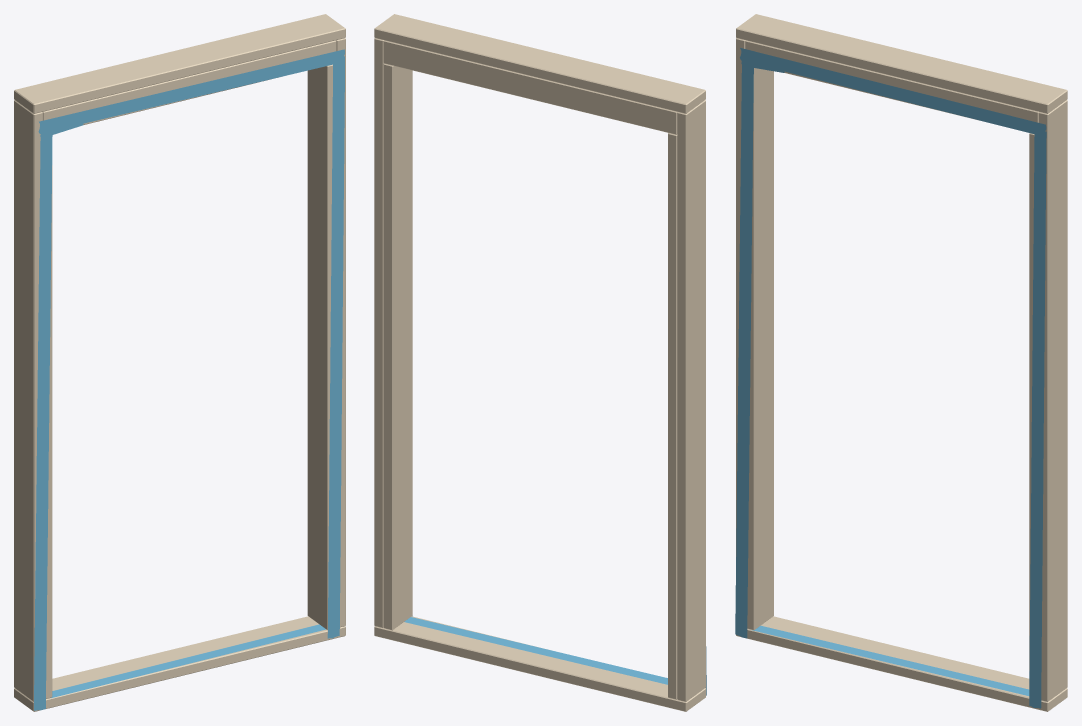
The model's file is Kit_DoorwayStuds.fbx.
3 renders of one model, left to right at view 1: azimuth 30°, elevation 25°; view 2: azimuth 150°, elevation 25°; view 3: azimuth 330°, elevation 25°, orthographic.
Parts seen in each view (by area): view 1: Kit_DoorwayStuds_LOD0; view 2: Kit_DoorwayStuds_LOD0; view 3: Kit_DoorwayStuds_LOD0.
Part boxes in pixels (x1=…): Kit_DoorwayStuds_LOD0: x1=14, y1=14, x2=345, y2=711; Kit_DoorwayStuds_LOD0: x1=374, y1=14, x2=706, y2=711; Kit_DoorwayStuds_LOD0: x1=735, y1=14, x2=1067, y2=711.
Size of what is drawn, in the model's own units: 1.25 by 2.33 by 0.1416.
